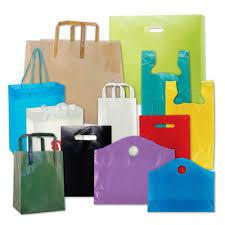Plastic bag: (14, 104, 209, 222), (139, 78, 221, 172), (136, 46, 195, 116)
